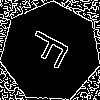F: (25, 27, 79, 75)
